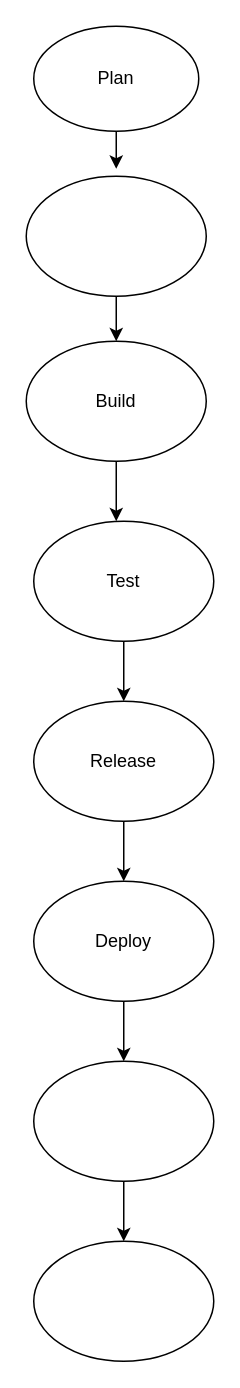
This 240x1388 diagram has some shape labels left out. Each missing label, with the centre of its shape:
Devlop: [115,235]
Operate: [123,1120]
